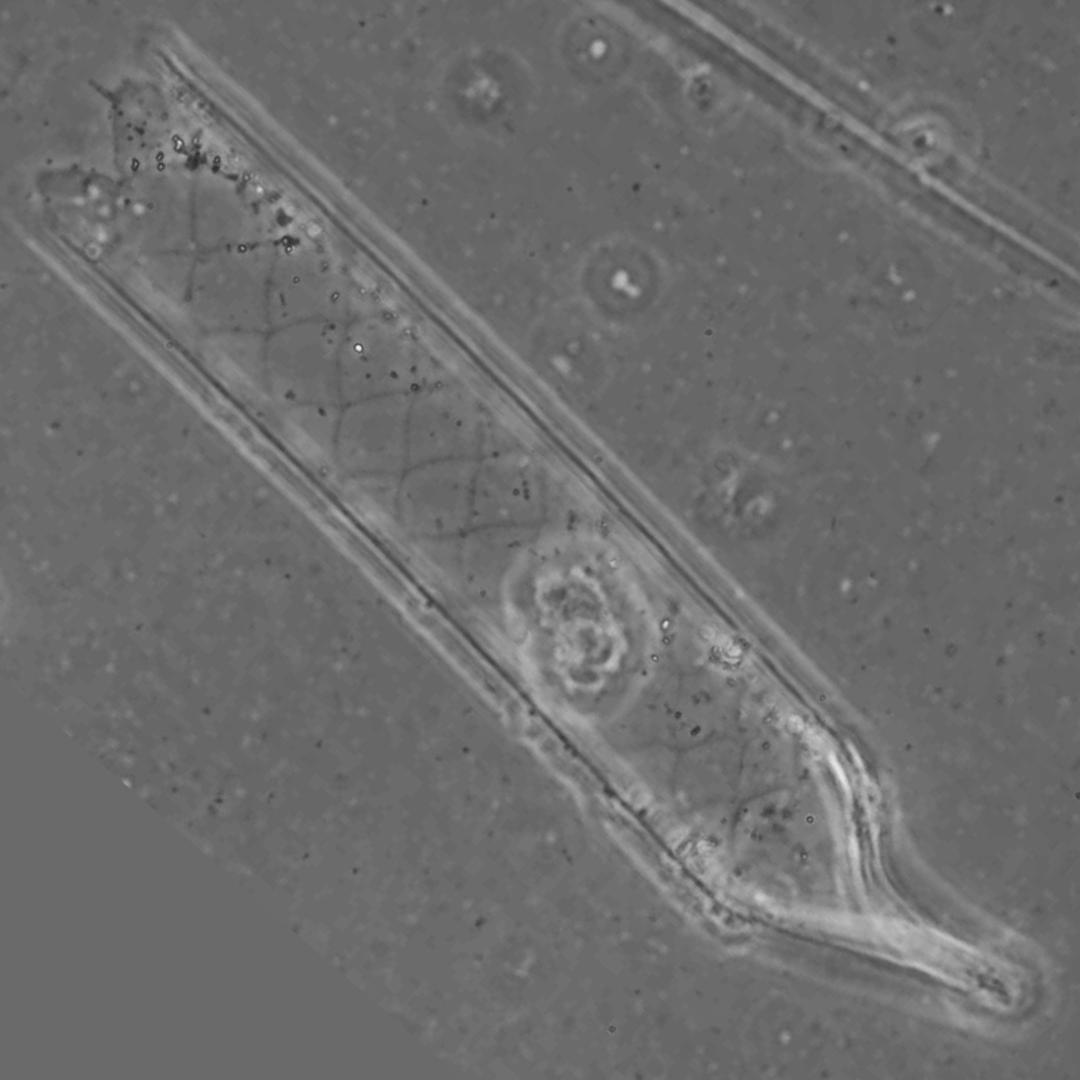proboscia_alata: (35, 20, 1039, 1022)
